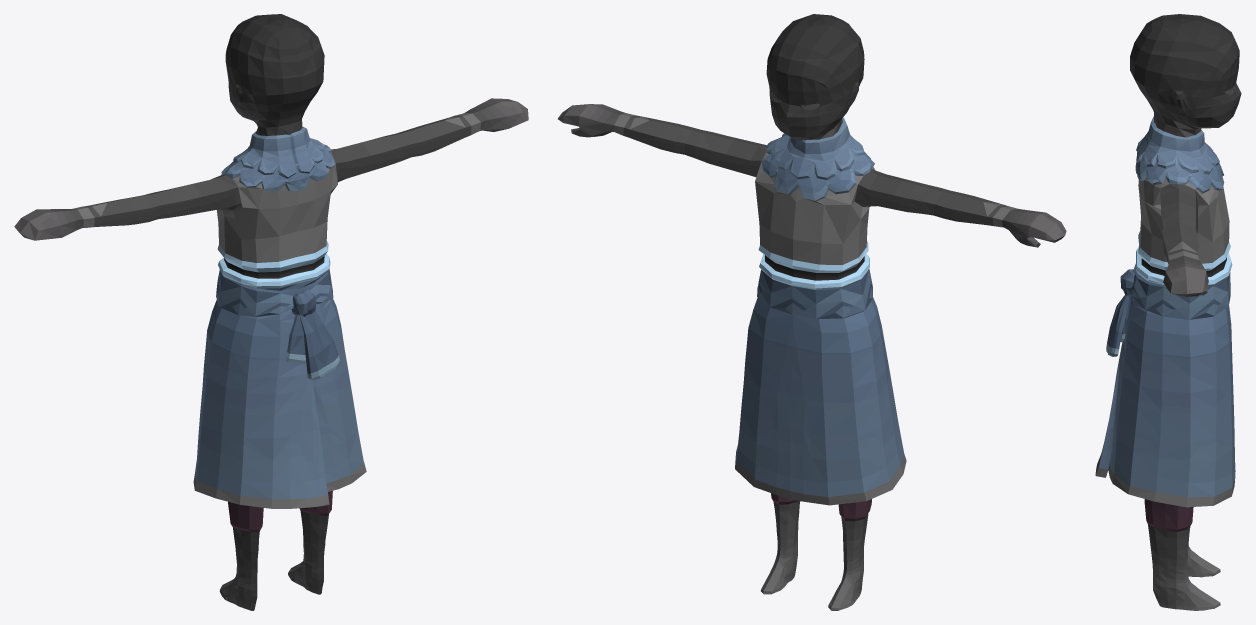
Rendered from CharSkyKid_Body_AP23CellistBasic.glb.
The picture shows the model from 3 angles, left to right: view 1: azimuth 30°, elevation 25°; view 2: azimuth 150°, elevation 25°; view 3: azimuth 270°, elevation 25°; orthographic projection.
Visible parts, largest first — view 1: CharSkyKid_Body_AP23CellistBasic; view 2: CharSkyKid_Body_AP23CellistBasic; view 3: CharSkyKid_Body_AP23CellistBasic.
Boxes of the visible parts, x1,y1,x2,y2 form: CharSkyKid_Body_AP23CellistBasic: (14,14,528,610); CharSkyKid_Body_AP23CellistBasic: (558,14,1066,610); CharSkyKid_Body_AP23CellistBasic: (1095,14,1241,610).
Bounding box in the file's own units: 13.83 × 14.94 × 3.46.
Materials: 1 (1 with a texture image).
